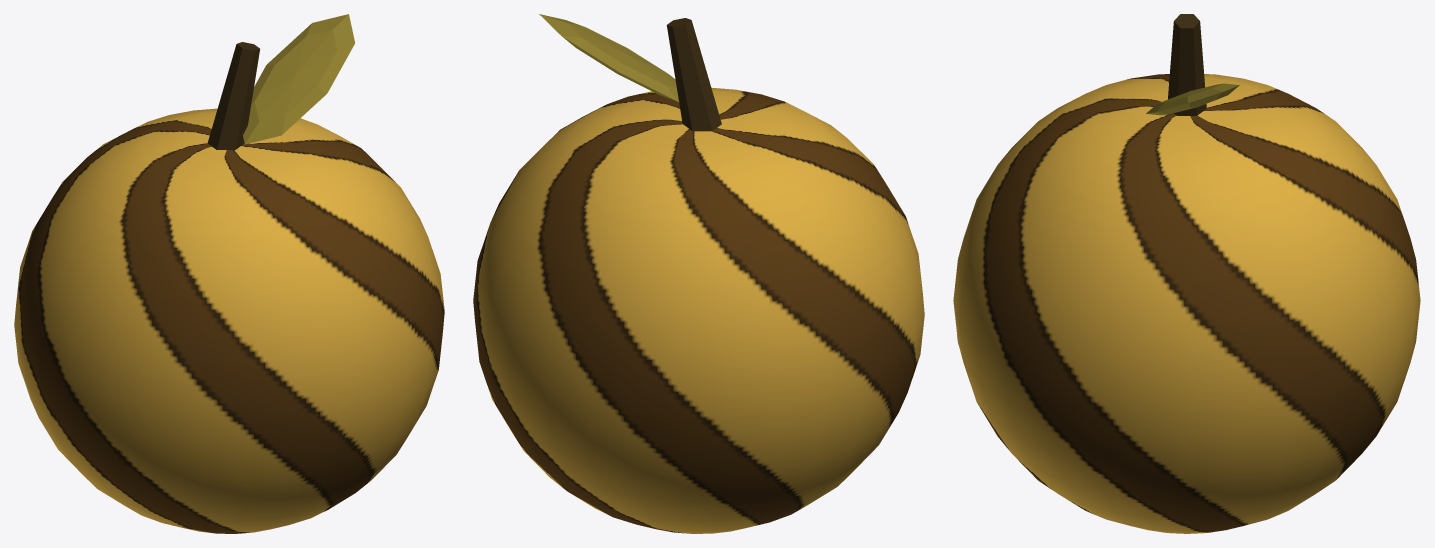
Rendered from Fruit_NekoLeopard.fbx.
3 views of the same model, side by side, from view 1: azimuth 30°, elevation 25°; view 2: azimuth 150°, elevation 25°; view 3: azimuth 270°, elevation 25° (orthographic). The views are drawn at different scales.
Parts seen in each view (by area): view 1: Fruit_NekoLeopard; view 2: Fruit_NekoLeopard; view 3: Fruit_NekoLeopard.
Boxes of the visible parts, <box> form: Fruit_NekoLeopard: <box>14,14,444,533</box>; Fruit_NekoLeopard: <box>473,14,924,533</box>; Fruit_NekoLeopard: <box>953,14,1420,533</box>.
Size of the model in its own units: 1.6 by 1.9 by 1.6.
1 material, 1 textured.
